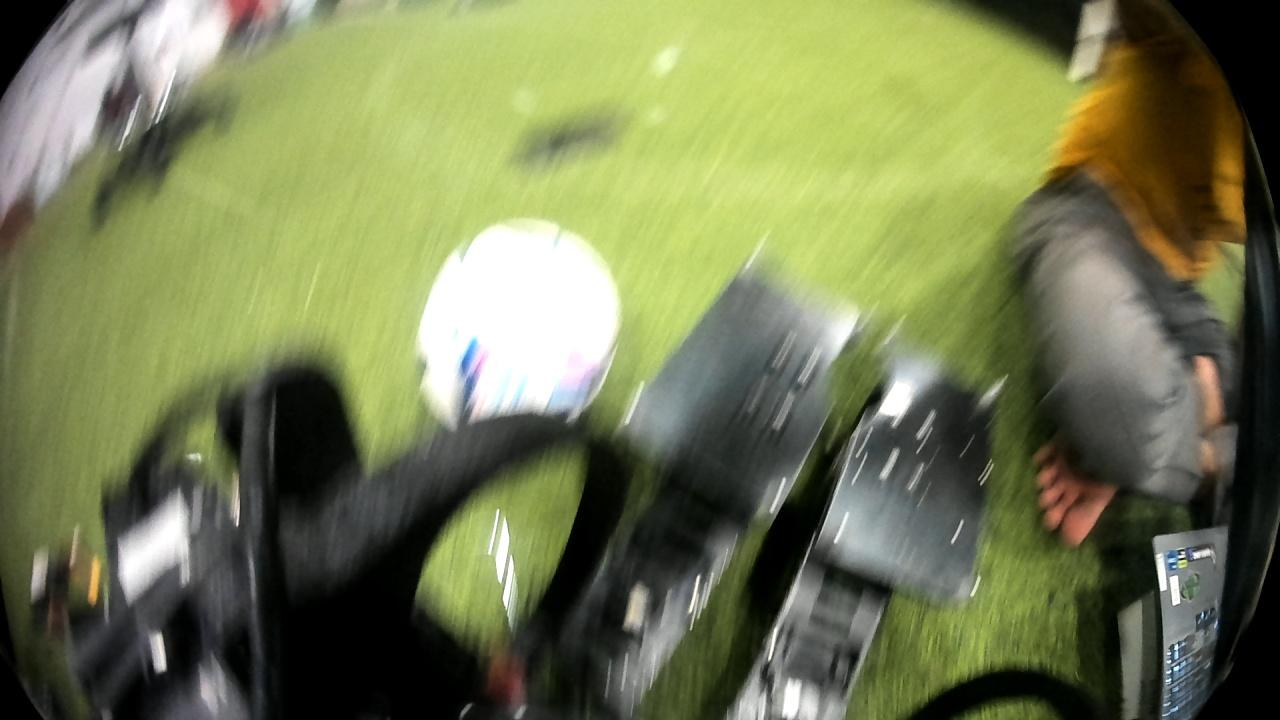ball: (412, 211, 627, 446)
